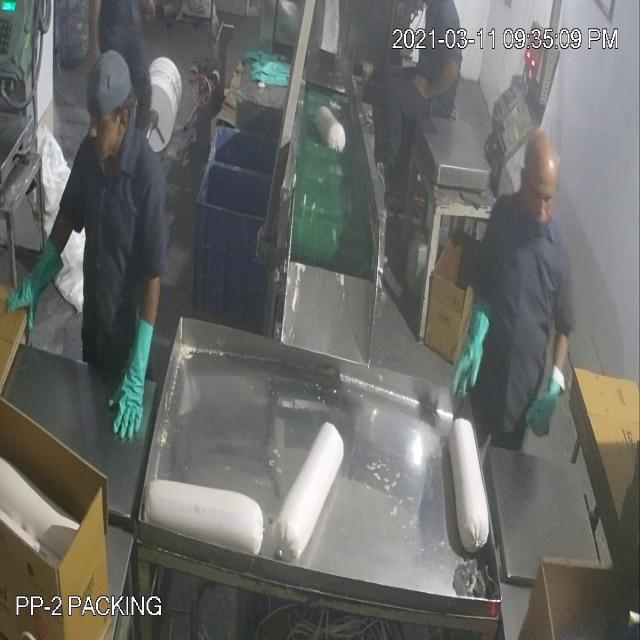gloves: (430, 298, 494, 406), (111, 303, 153, 438)
no-gloves: (412, 54, 464, 108)
